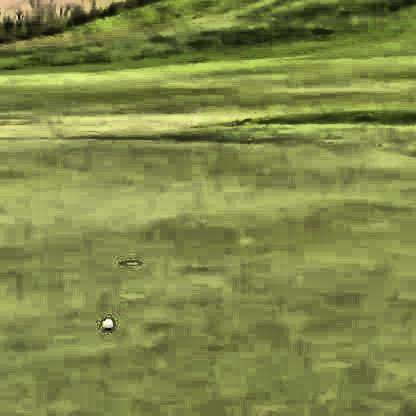golfball: (100, 316, 112, 328)
